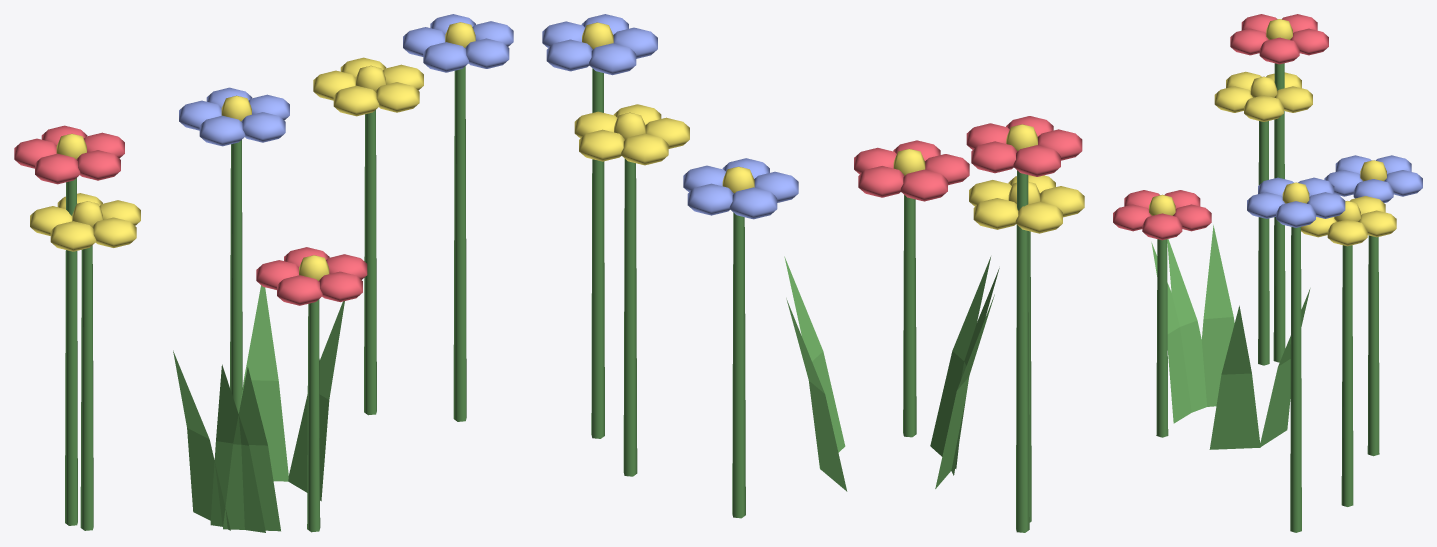
File: flowers.glb
3 renders of one model, left to right at view 1: azimuth 30°, elevation 25°; view 2: azimuth 150°, elevation 25°; view 3: azimuth 270°, elevation 25°, orthographic. The views are drawn at different scales.
Visible parts, largest first — view 1: flowers_m; view 2: flowers_m; view 3: flowers_m.
Part boxes in pixels (x1,y1,x2,y2): flowers_m: [14, 14, 513, 532]; flowers_m: [542, 14, 1084, 532]; flowers_m: [1113, 14, 1422, 532].
Size of the model in its own units: 0.9838 by 0.7477 by 0.6042.
